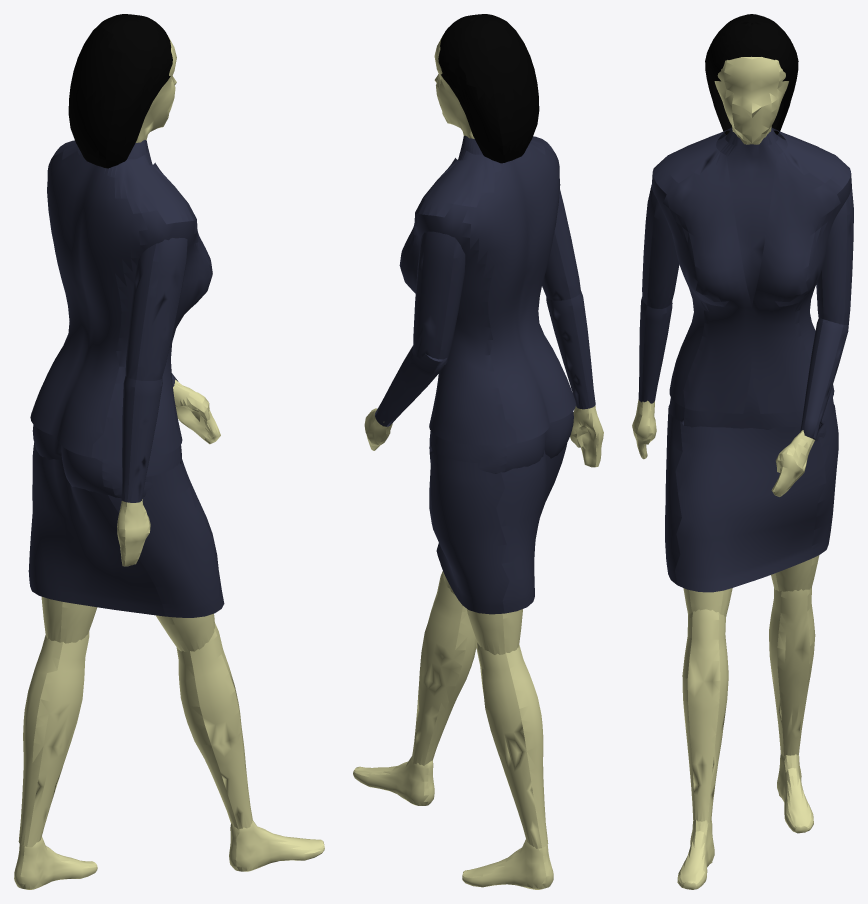
The model's file is woman.obj.
3 renders of one model, left to right at view 1: azimuth 30°, elevation 25°; view 2: azimuth 150°, elevation 25°; view 3: azimuth 270°, elevation 25°, orthographic. The views are drawn at different scales.
Parts seen in each view (by area): view 1: Layer_02ZF; view 2: Layer_02ZF; view 3: Layer_02ZF.
Part boxes in pixels (x1,y1,x2,y2): Layer_02ZF: [14, 14, 324, 889]; Layer_02ZF: [353, 14, 603, 889]; Layer_02ZF: [632, 14, 853, 889].
Size of the model in its own units: 20.45 by 66.35 by 16.3.
